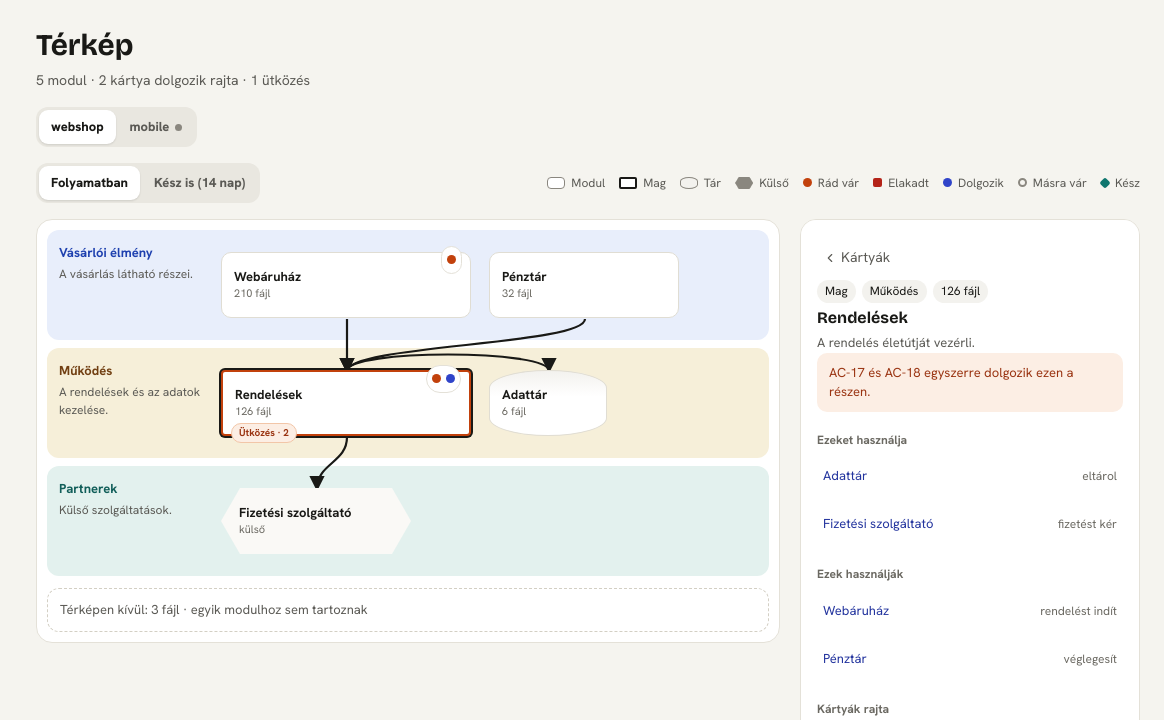
Test: structure map › switches repositories, clears selection and renders a full missing state
Expected: the heading "Vásárlói élmény" is shown, x1=59 y1=244 x2=153 y2=261
Click the button "mobile" at (156, 127), box x1=118 y1=110 x2=194 y2=144
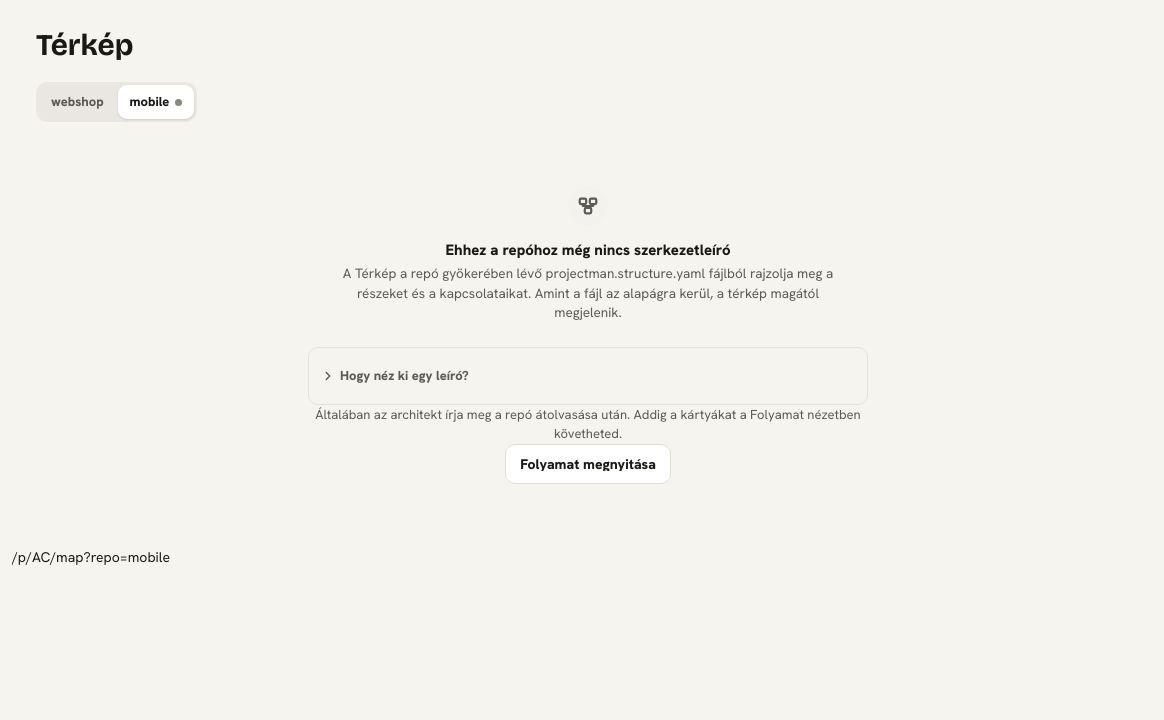
Expected: the heading "Ehhez a repóhoz még nincs szerkezetleíró" is shown, x1=446 y1=240 x2=731 y2=260
